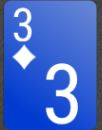Diamond: (12, 44, 37, 70)
